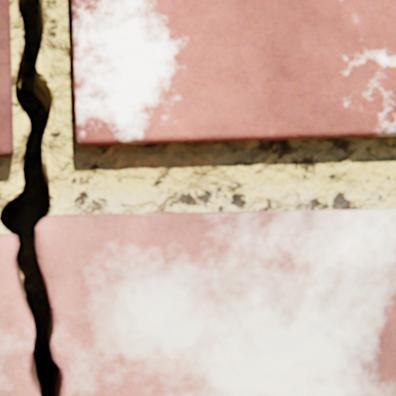brick: (70, 0, 395, 145), (0, 0, 13, 156)
broken_brick: (35, 208, 395, 395), (0, 234, 37, 395)
crack: (0, 0, 62, 395)
